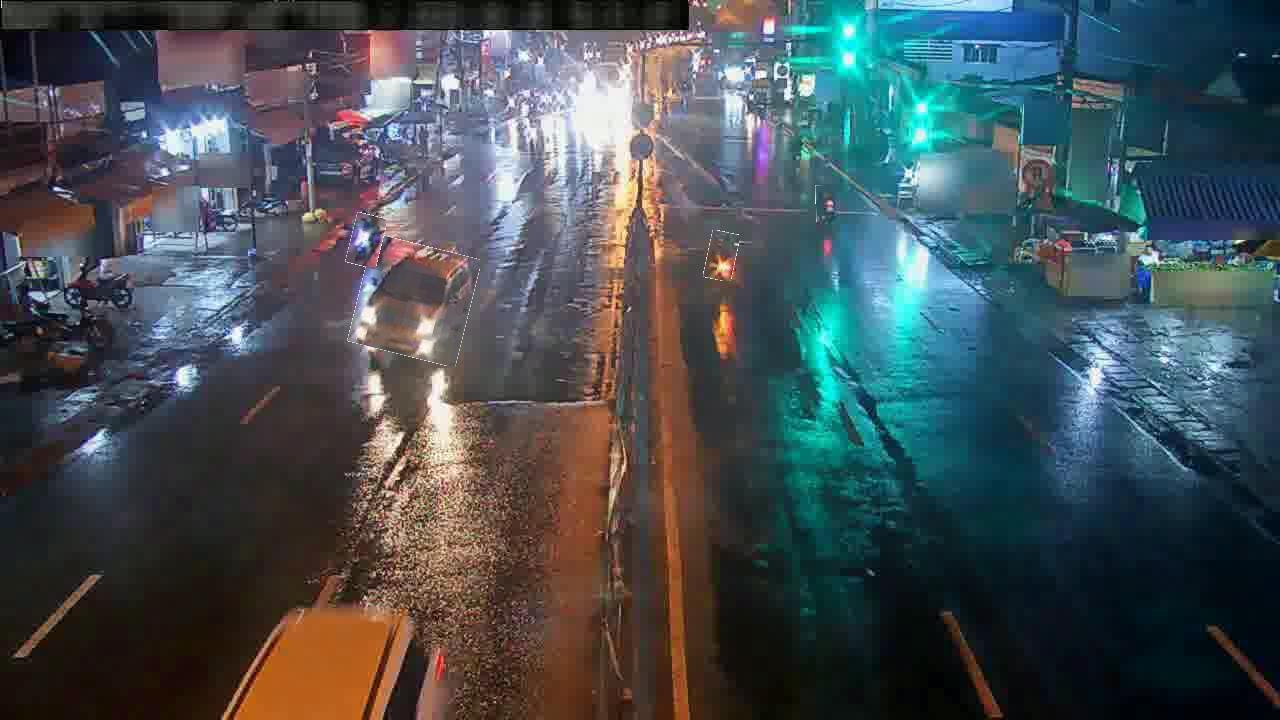container: (353, 239, 476, 362)
motorbike: (348, 214, 385, 267), (706, 231, 738, 281), (816, 185, 837, 223)
